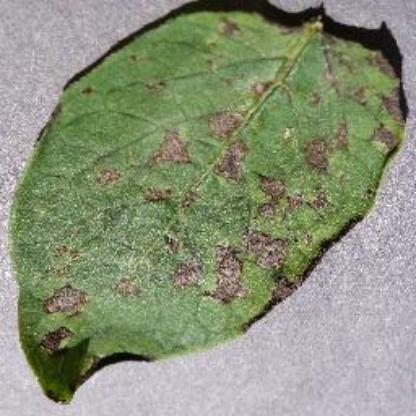Early-Blight: (12, 7, 414, 403)
